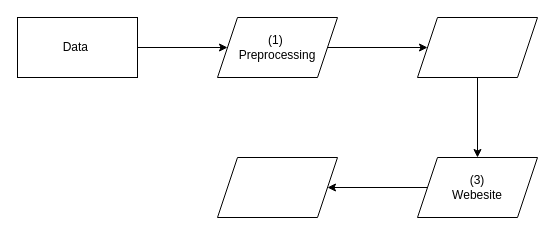
Image size: 555x235. Some labels were removed from this diagram. The centre of each missing label's shape, as x and y in pixels:
"(2) Model" belongs at pixel 477 47.
"(4) Deploy" belongs at pixel 277 187.
